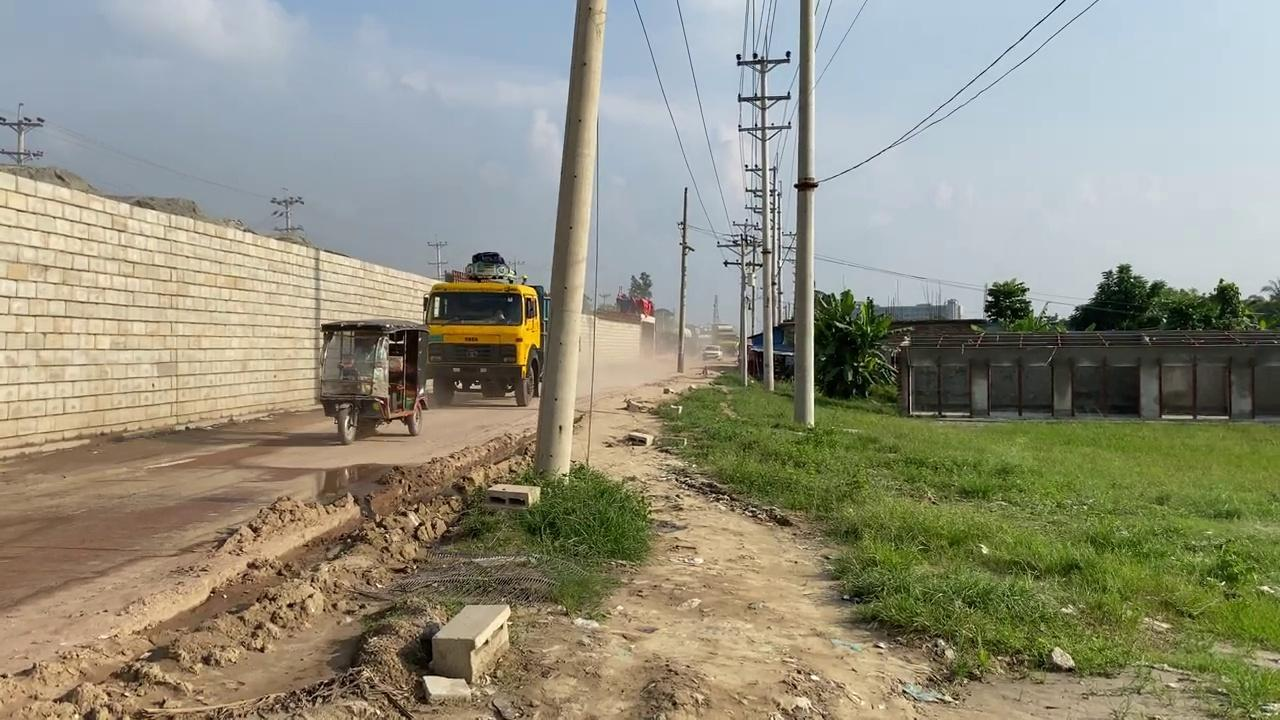Car: (701, 344, 722, 361)
Fence: (881, 328, 1278, 421)
Obstacle: (428, 602, 511, 683), (421, 673, 472, 703), (484, 482, 540, 509)
Pole: (532, 0, 608, 481), (792, 0, 817, 428), (676, 186, 688, 373)
Rickshaw: (505, 364, 997, 720)
Traffic-sign: (982, 276, 1033, 329)
Tree: (421, 250, 550, 407), (315, 317, 430, 444)
Upstairs: (0, 165, 448, 457)
